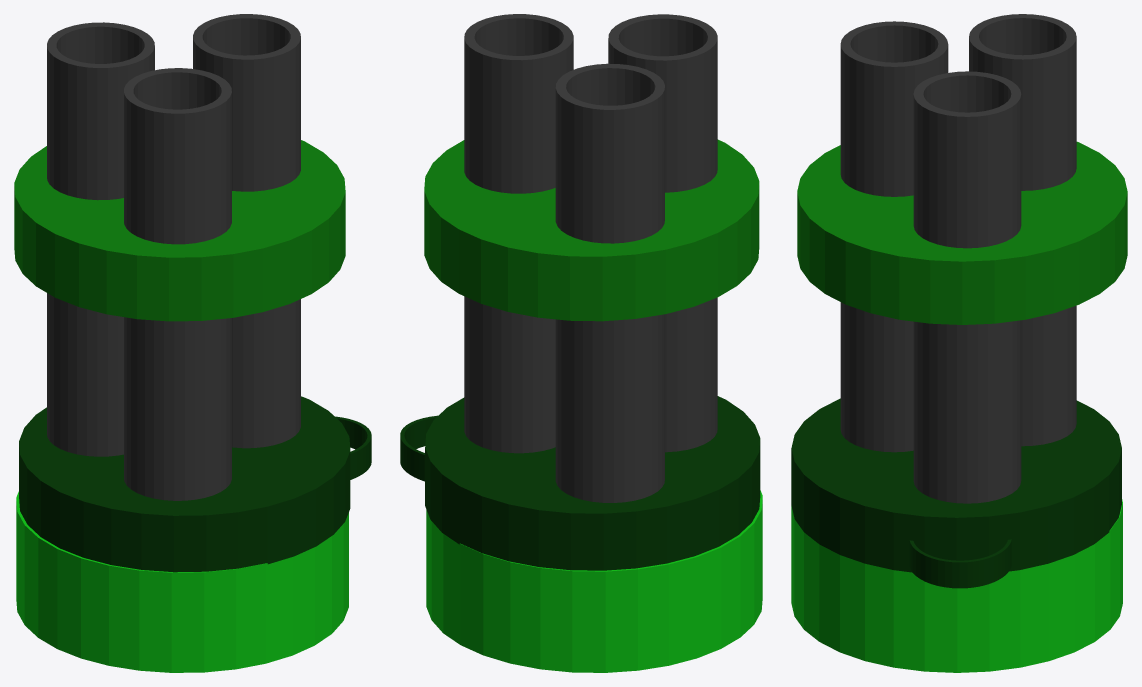
Rendered from machinegun.obj.
The picture shows the model from 3 angles, left to right: view 1: azimuth 30°, elevation 25°; view 2: azimuth 150°, elevation 25°; view 3: azimuth 270°, elevation 25°; orthographic projection.
Visible parts, largest first — view 1: Cylinder.002, Cylinder.004, Cylinder.005, Cylinder.001, Cylinder, Cylinder.003, Cube; view 2: Cylinder, Cylinder.004, Cylinder.001, Cylinder.005, Cylinder.003, Cylinder.002, Cube; view 3: Cylinder.003, Cylinder.004, Cylinder.005, Cylinder.001, Cylinder.002, Cylinder, Cube.
Boxes of the visible parts, box(x1,y1,x2,y2) form: Cylinder.002: box(124, 68, 231, 500); Cylinder.004: box(14, 140, 345, 321); Cylinder.005: box(19, 396, 350, 572); Cylinder.001: box(16, 491, 348, 672); Cylinder: box(47, 22, 154, 456); Cylinder.003: box(193, 14, 300, 448); Cube: box(335, 416, 371, 479); Cylinder: box(555, 63, 664, 502); Cylinder.004: box(424, 139, 759, 321); Cylinder.001: box(426, 490, 762, 672); Cylinder.005: box(425, 396, 760, 570); Cylinder.003: box(464, 14, 573, 453); Cylinder.002: box(608, 14, 717, 452); Cube: box(400, 415, 437, 481); Cylinder.003: box(913, 71, 1021, 503); Cylinder.004: box(797, 141, 1127, 324); Cylinder.005: box(791, 398, 1121, 572); Cylinder.001: box(791, 499, 1122, 672); Cylinder.002: box(840, 21, 948, 452); Cylinder: box(969, 14, 1076, 446); Cube: box(909, 539, 1011, 588).
Size of the model in its own units: 1.72 by 2.72 by 1.53.
